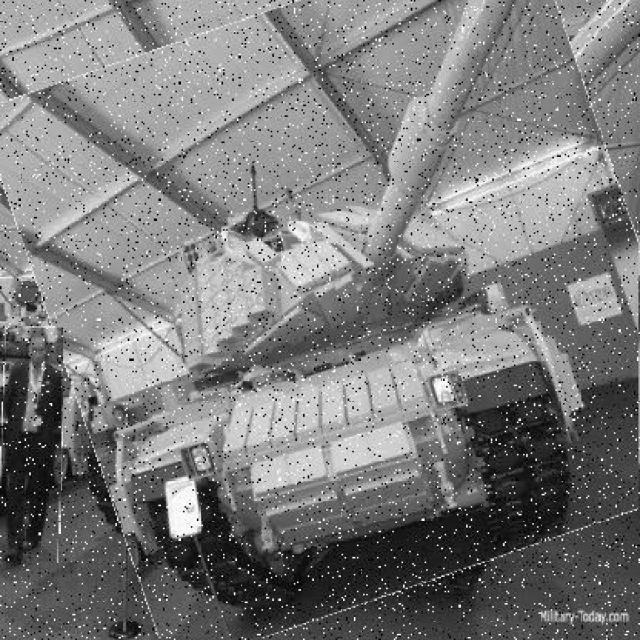Person: (1, 327, 64, 566)
Tank: (18, 1, 639, 632)
